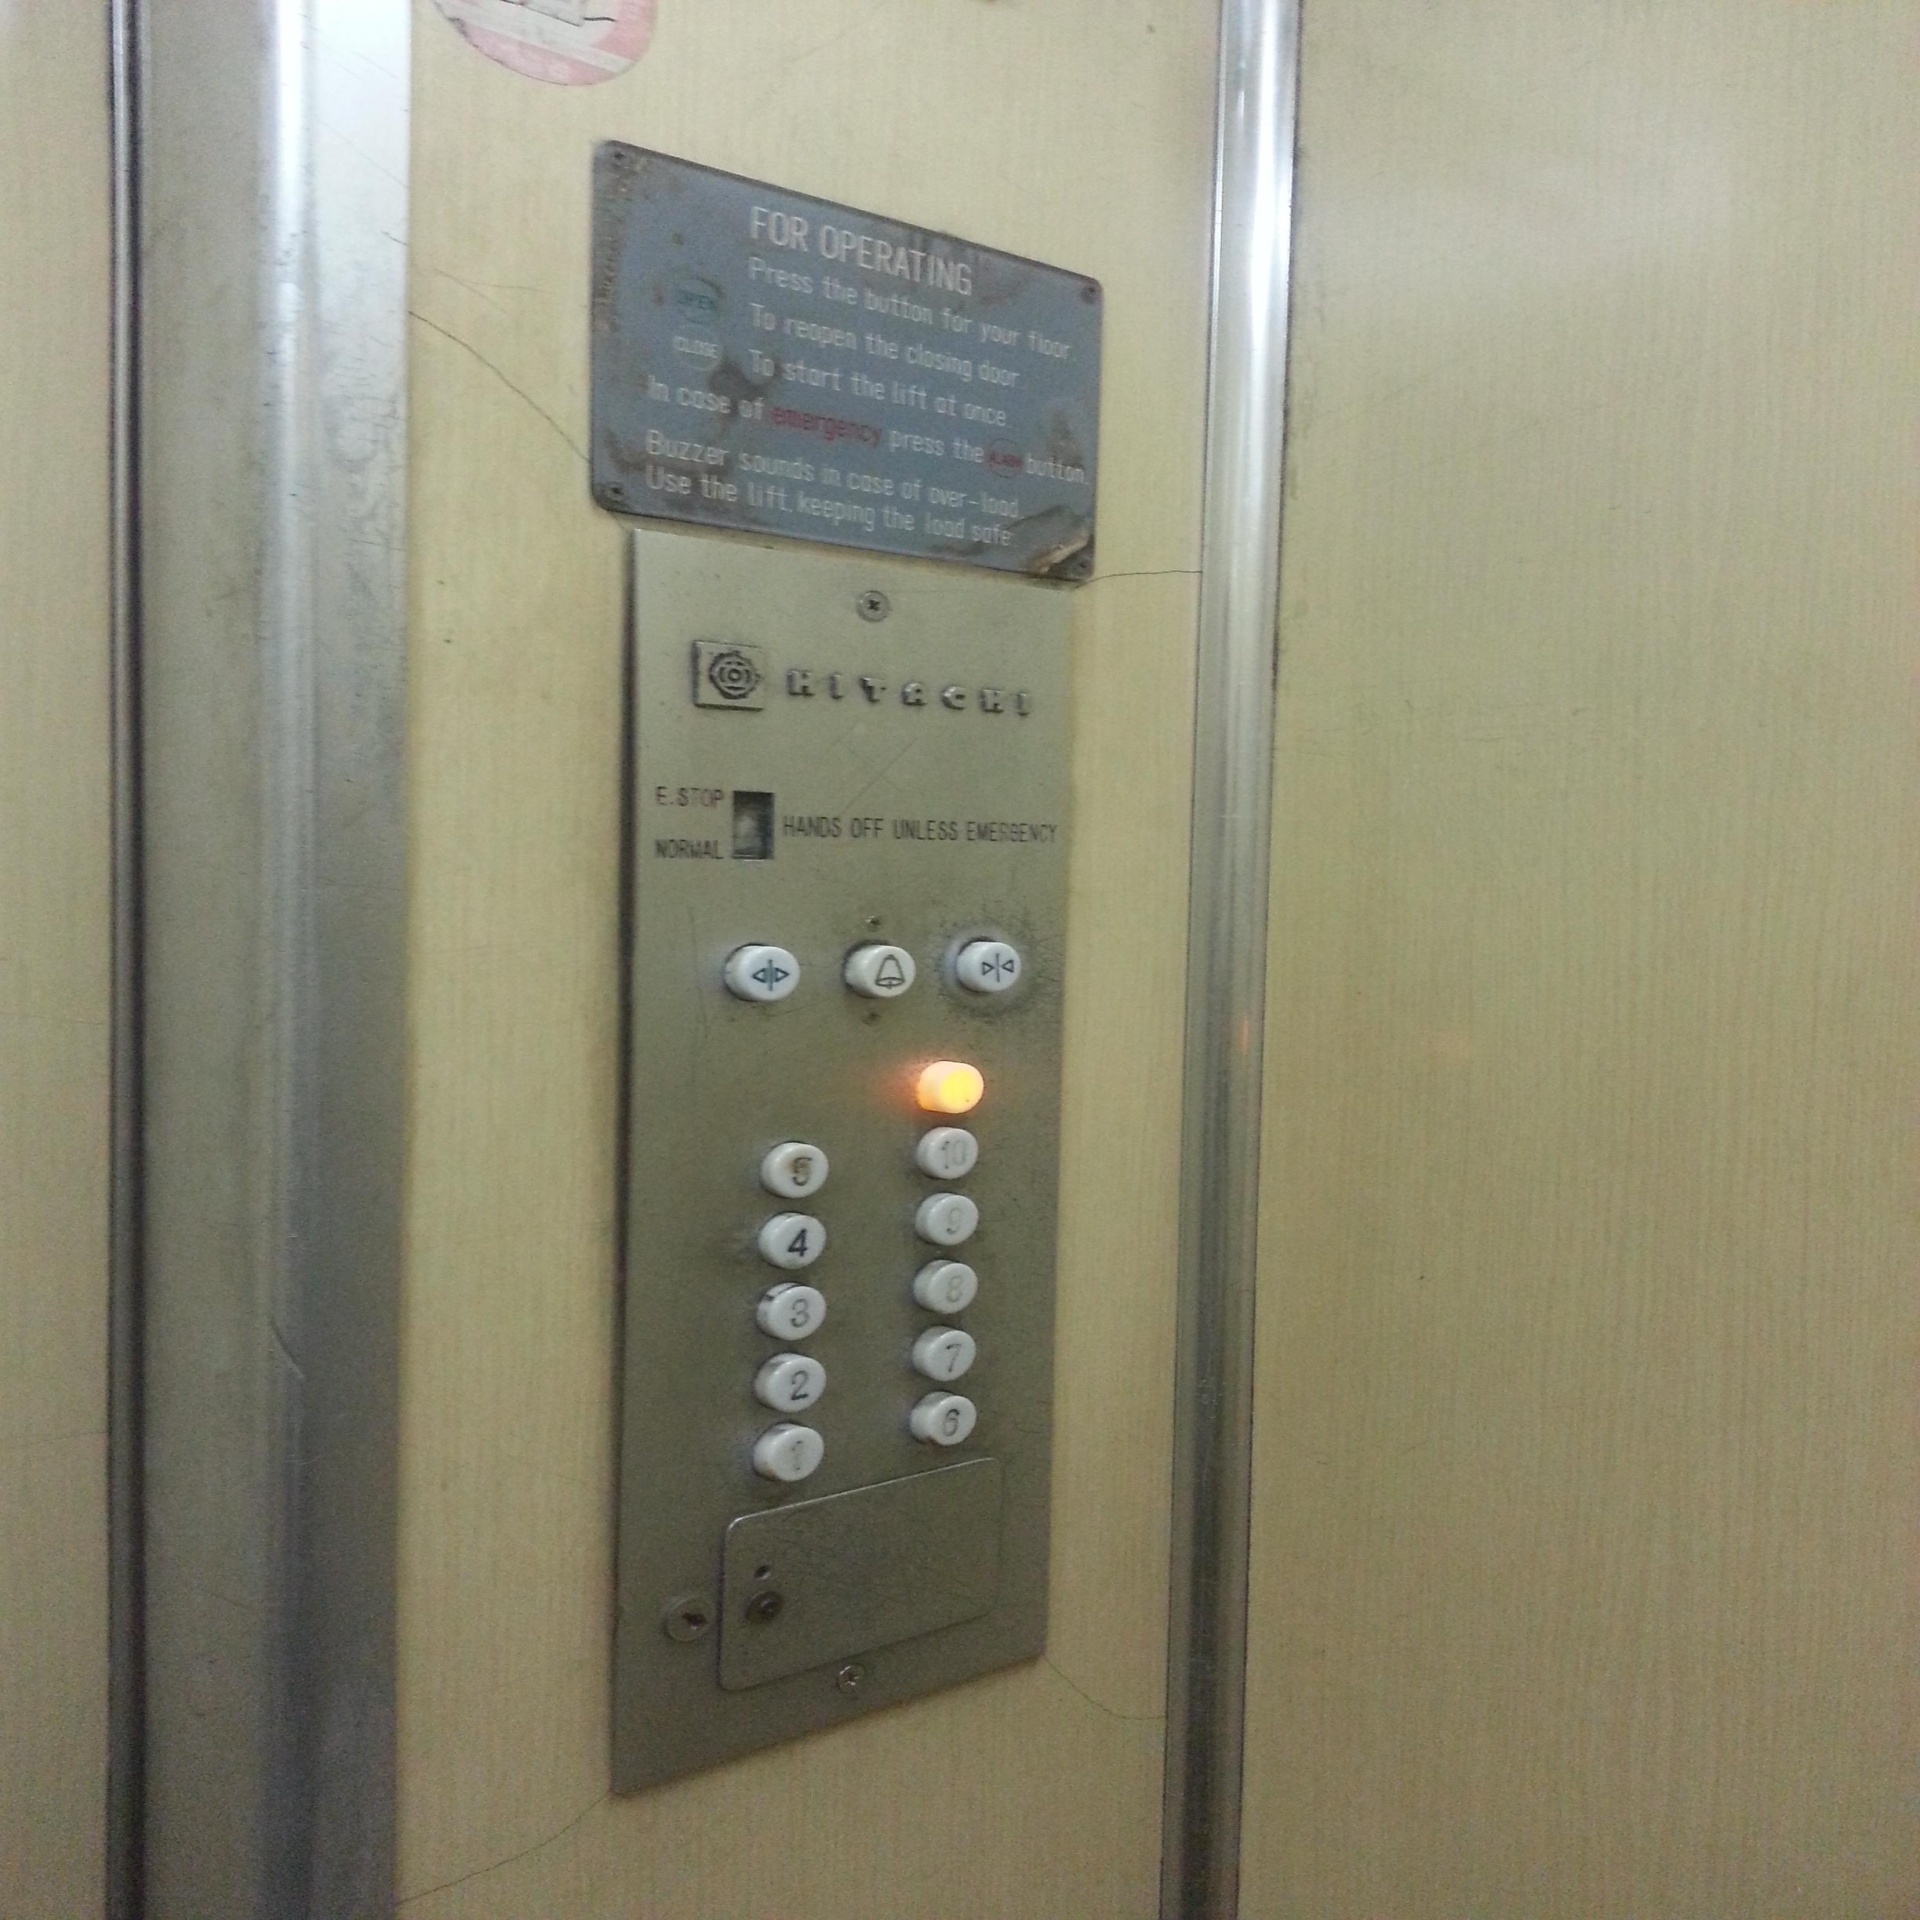1: (747, 1422, 825, 1482)
10: (914, 1124, 978, 1185)
2: (753, 1350, 828, 1414)
3: (758, 1282, 825, 1340)
4: (758, 1211, 828, 1271)
5: (760, 1138, 828, 1201)
6: (907, 1389, 978, 1449)
7: (914, 1322, 979, 1384)
8: (913, 1255, 976, 1315)
9: (914, 1192, 979, 1247)
alarm: (842, 937, 916, 1002)
close: (955, 928, 1029, 999)
empty: (913, 1057, 985, 1116)
keyhole: (659, 1593, 716, 1646)
open: (719, 942, 802, 1006)
